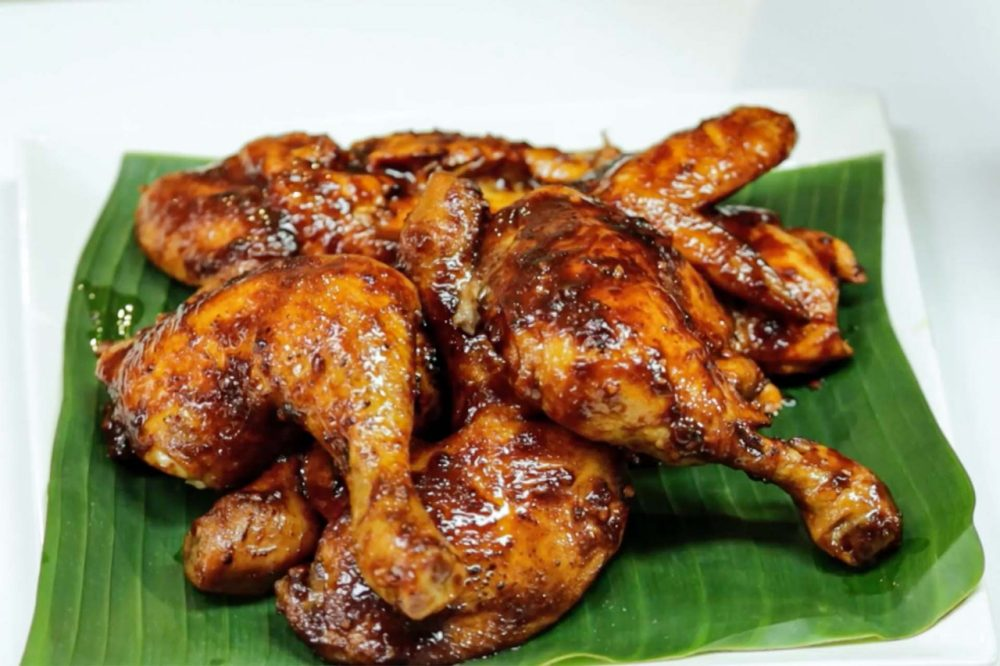Ayam: (447, 179, 893, 574), (58, 295, 472, 610), (318, 379, 665, 666), (89, 91, 405, 280)
